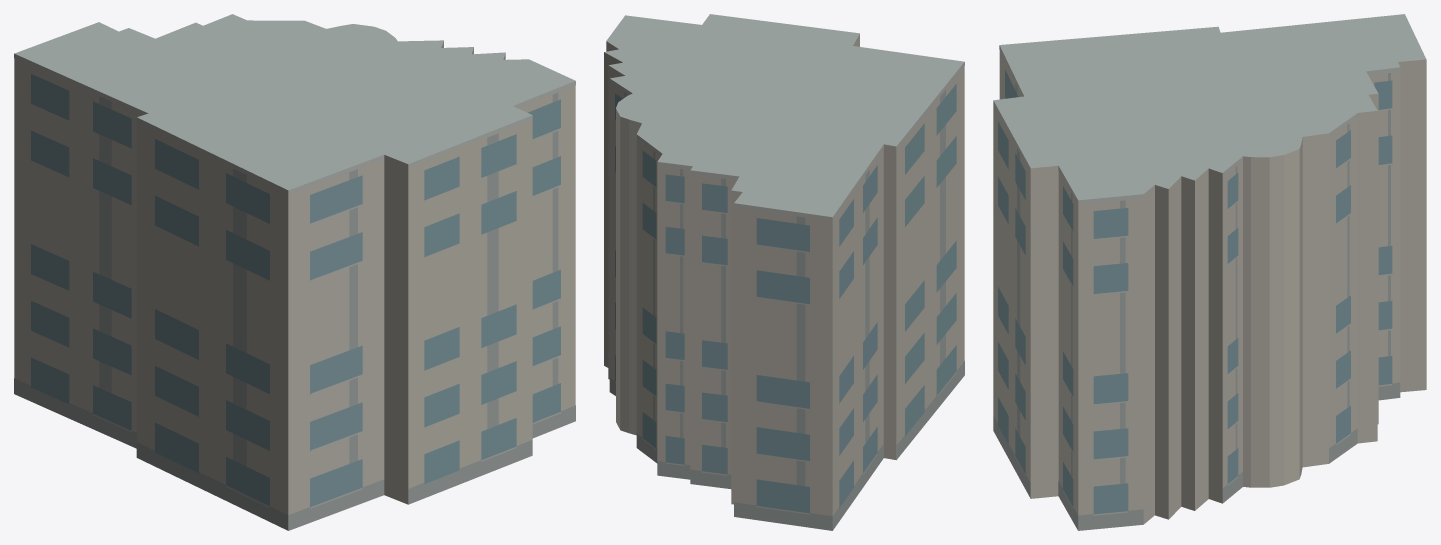
File: survey-upis-32975471.glb
3 renders of one model, left to right at view 1: azimuth 30°, elevation 25°; view 2: azimuth 150°, elevation 25°; view 3: azimuth 270°, elevation 25°, orthographic. The views are drawn at different scales.
Visible parts, largest first — view 1: survey-upis-32975471.tmp; view 2: survey-upis-32975471.tmp; view 3: survey-upis-32975471.tmp.
Part boxes in pixels (x1,y1,x2,y2): survey-upis-32975471.tmp: (14, 14, 575, 530); survey-upis-32975471.tmp: (604, 14, 964, 530); survey-upis-32975471.tmp: (993, 14, 1426, 530).
Bounding box in the file's own units: 21.77 × 18 × 21.39.
